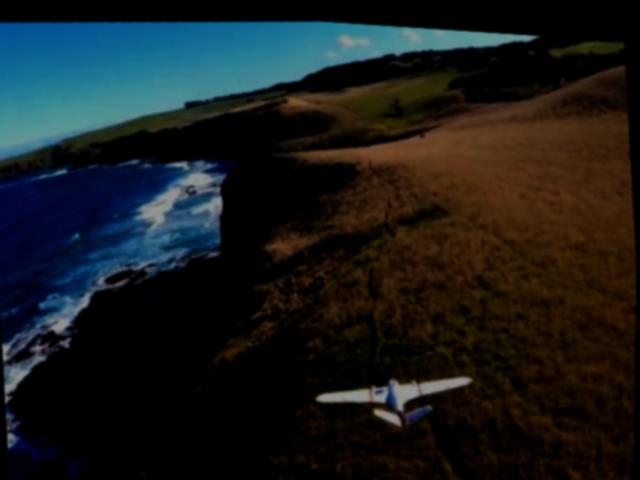uav: (316, 359, 479, 433)
